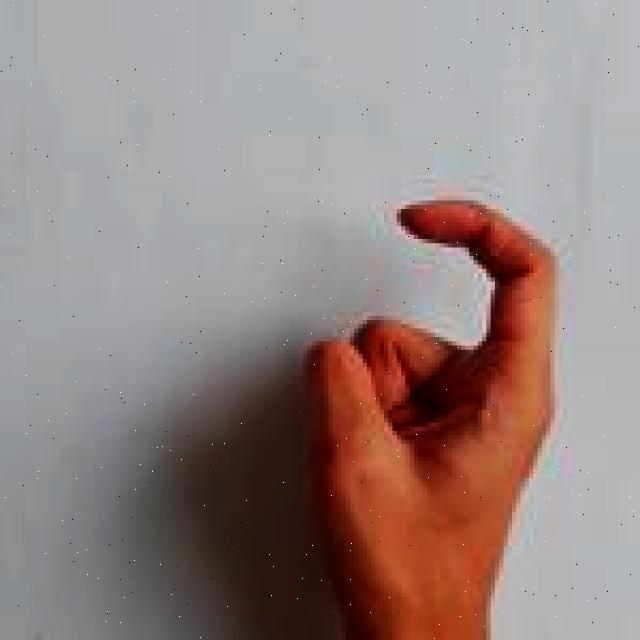X: (302, 195, 567, 640)
